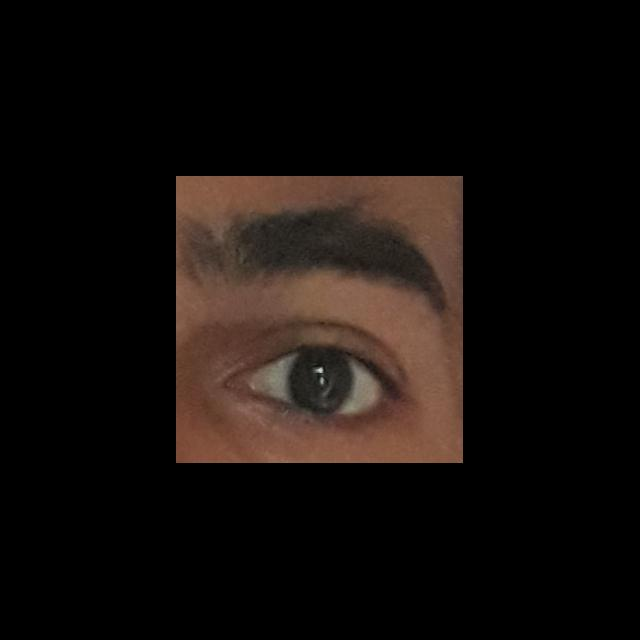eye: (258, 349, 384, 417)
iris: (290, 353, 352, 412)
